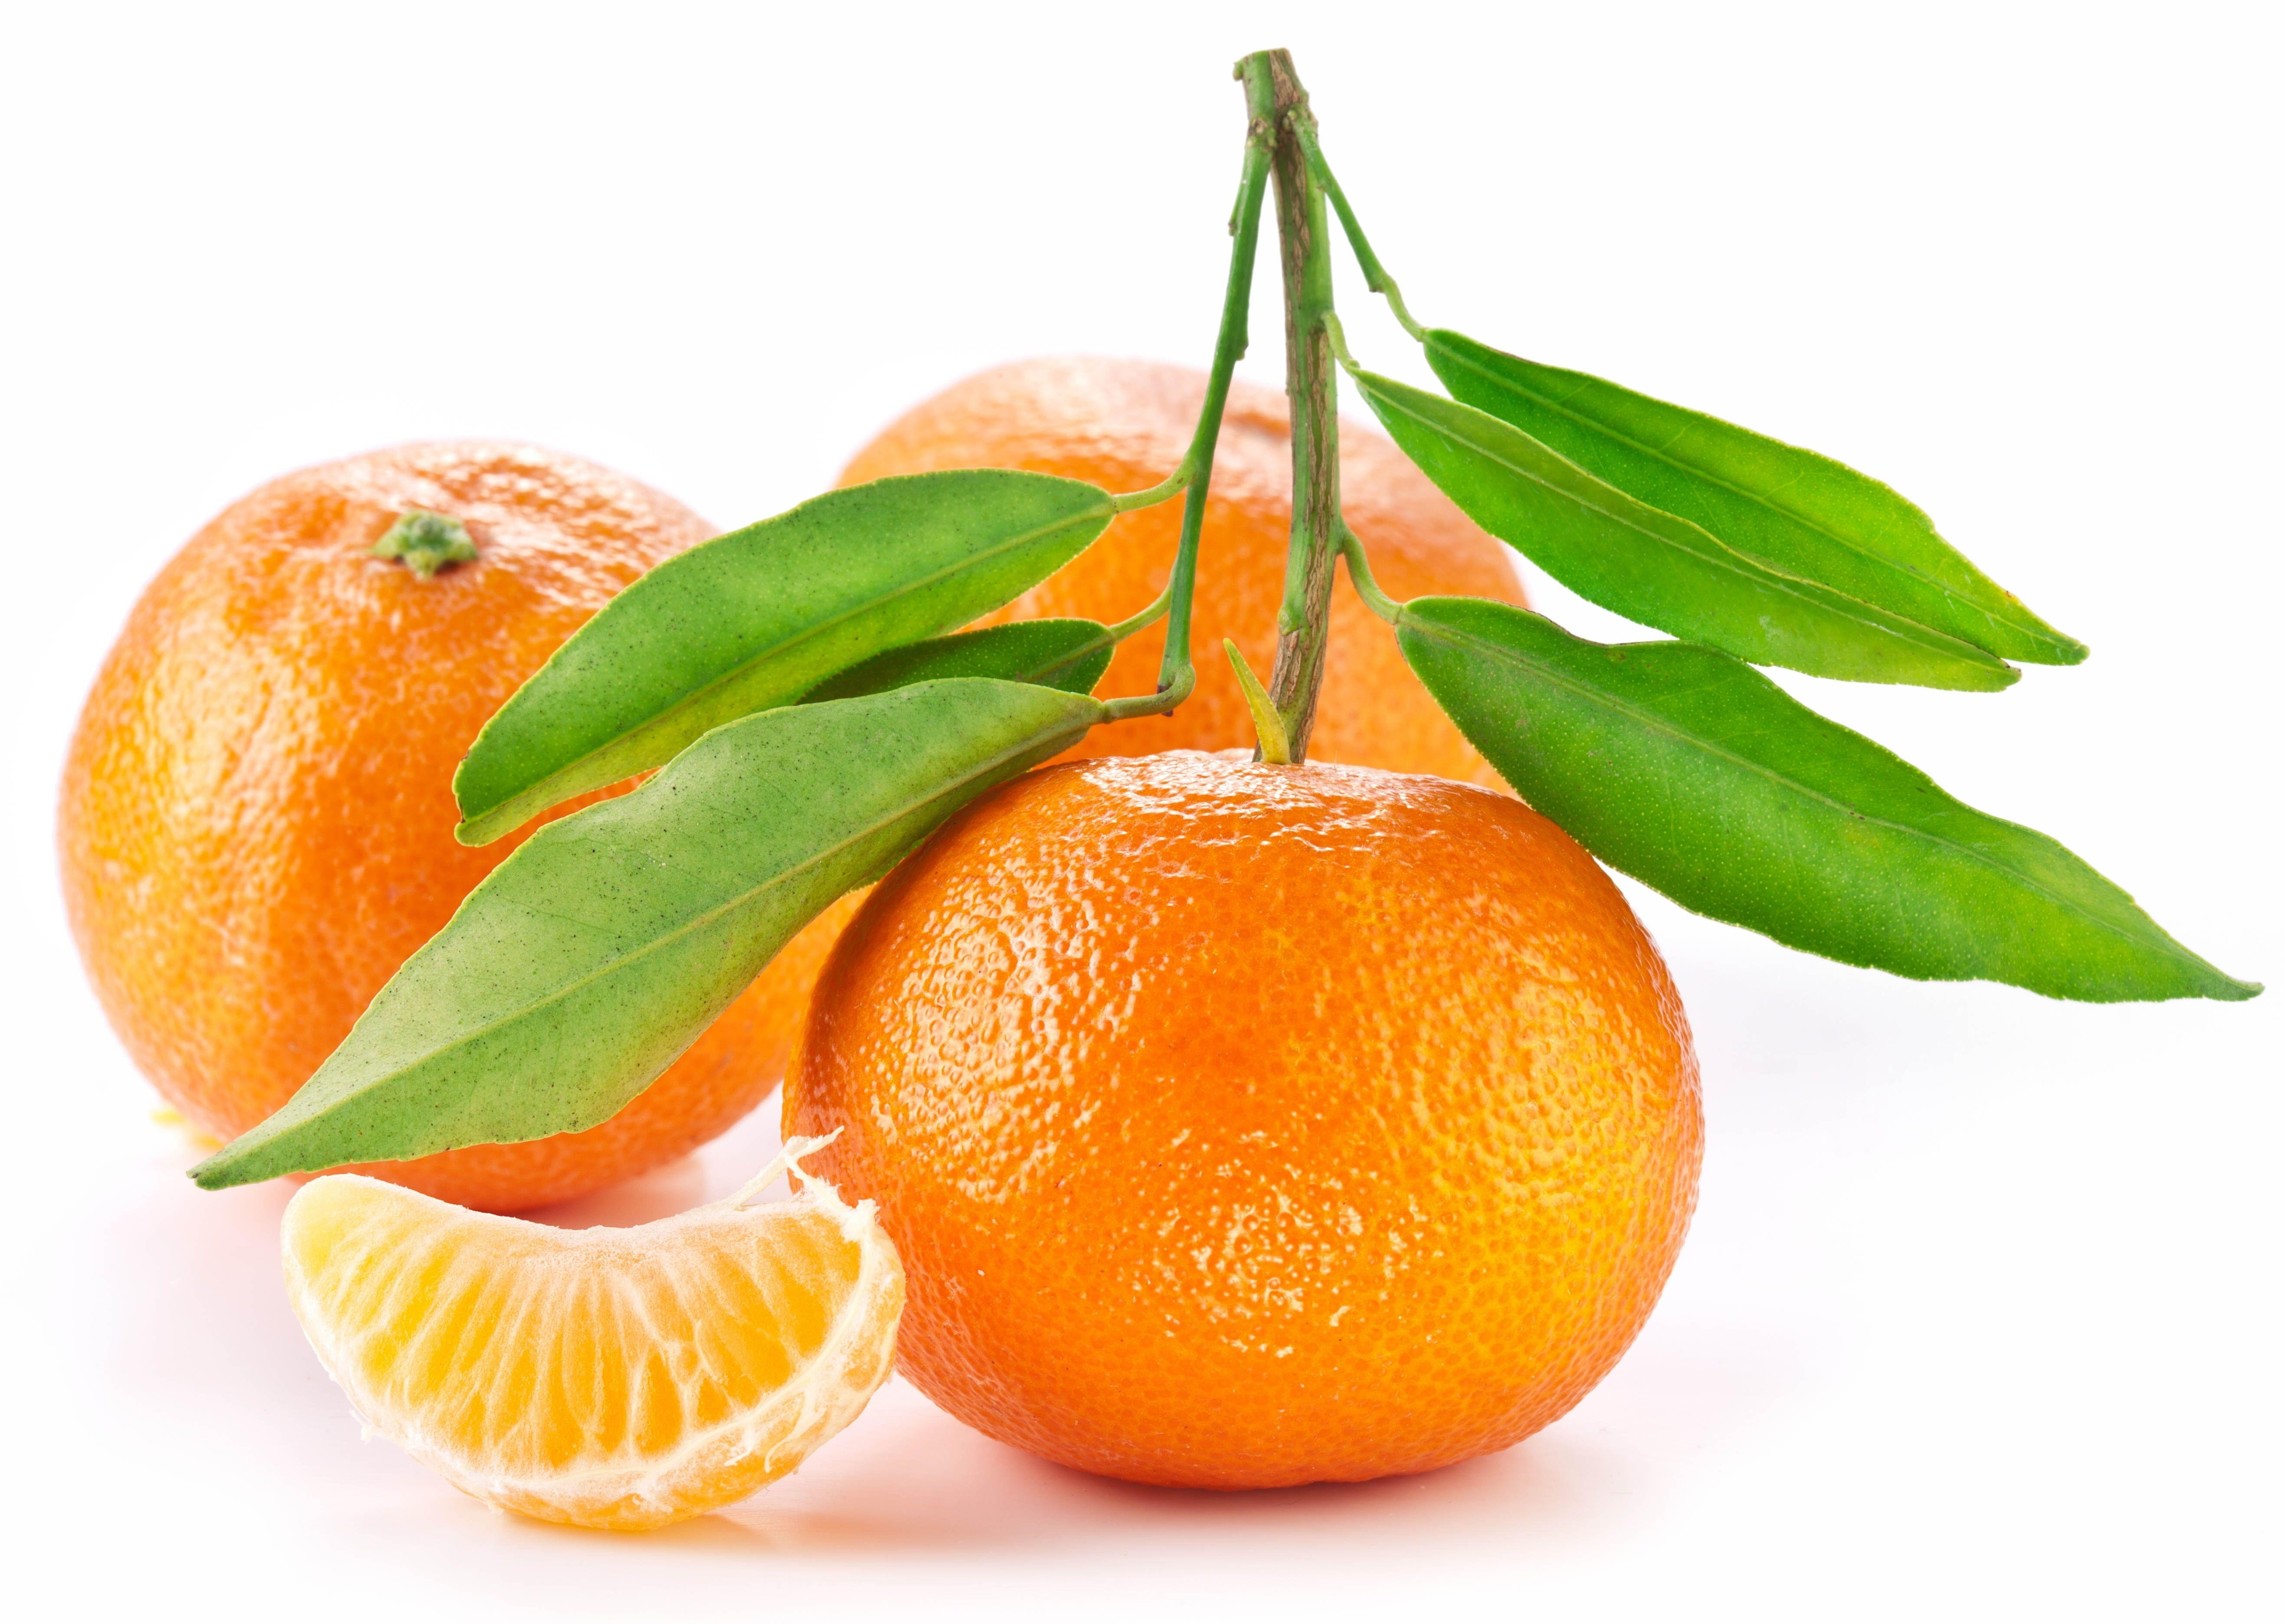Orange: (380, 631, 1816, 1536)
